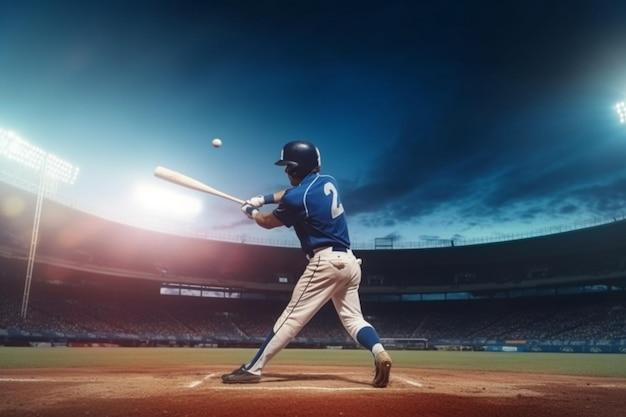baseball: (211, 137, 222, 148)
